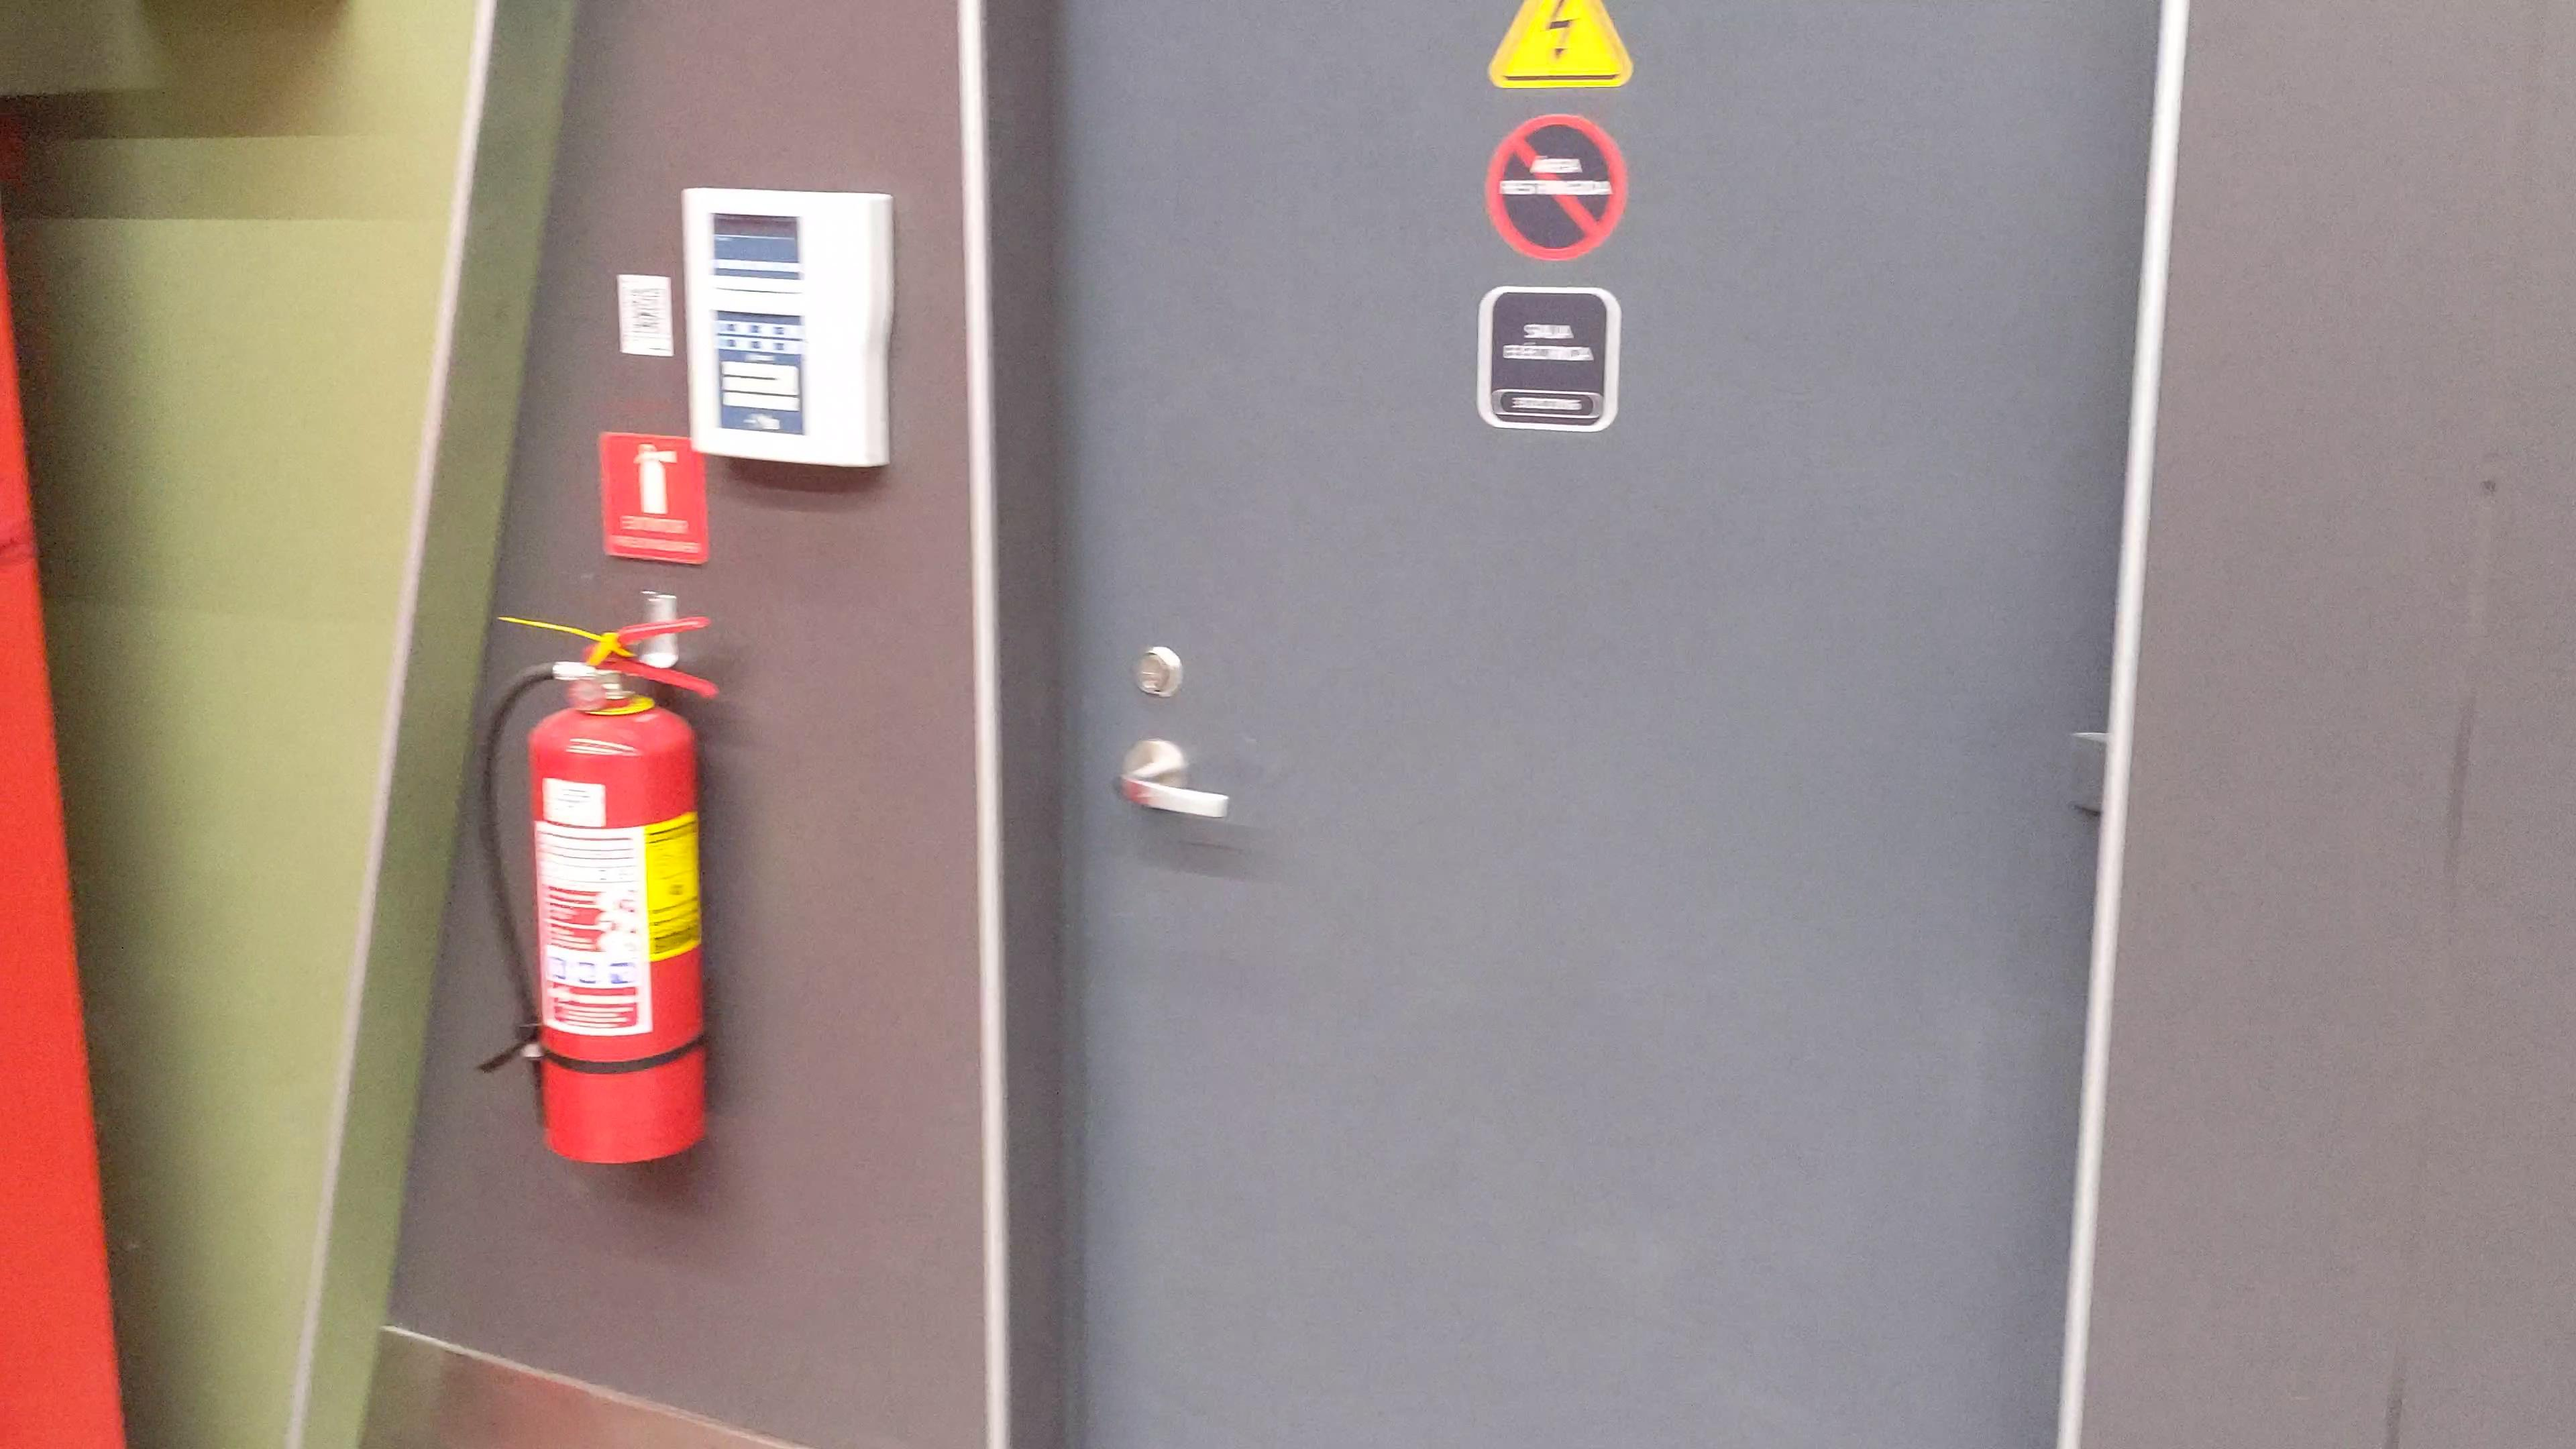danger-electricity: (1468, 0, 1640, 87)
extinguisher symbol: (628, 437, 681, 515)
fire-extinguisher: (464, 602, 727, 1168)
